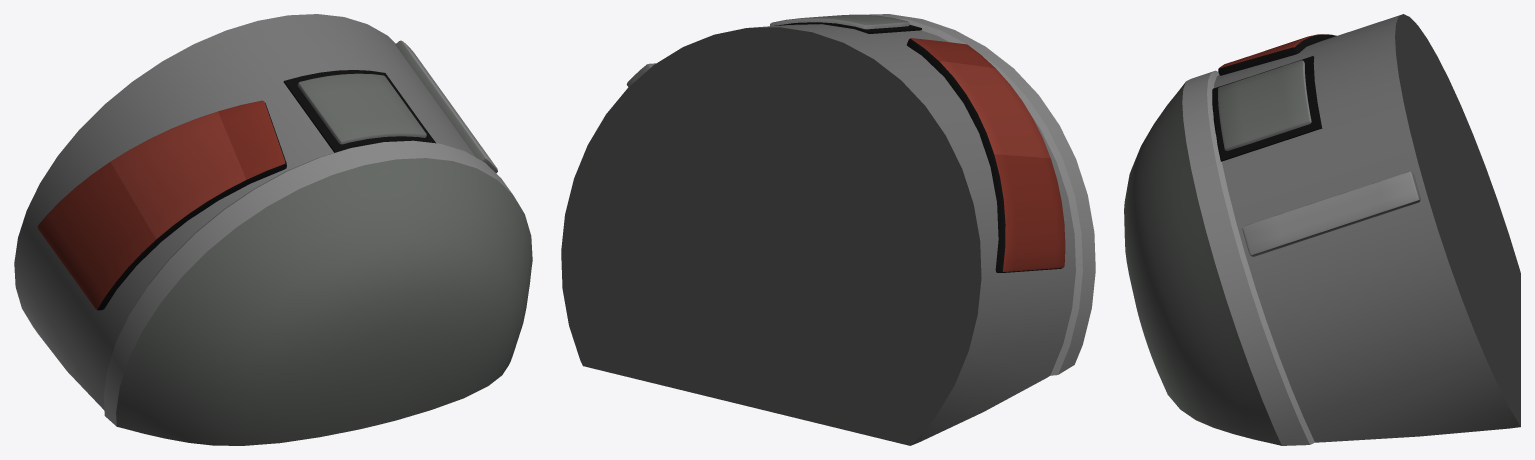
The model's file is red_tower_base.glb.
3 renders of one model, left to right at view 1: azimuth 30°, elevation 25°; view 2: azimuth 150°, elevation 25°; view 3: azimuth 270°, elevation 25°, orthographic. The views are drawn at different scales.
Visible parts, largest first — view 1: red_tower_base; view 2: red_tower_base; view 3: red_tower_base.
Part boxes in pixels (left/top/right/bottom): red_tower_base: left=14, top=14, right=532, bottom=445; red_tower_base: left=561, top=14, right=1095, bottom=445; red_tower_base: left=1124, top=14, right=1520, bottom=445.
Size of the model in its own units: 18.44 by 13.61 by 15.62.
